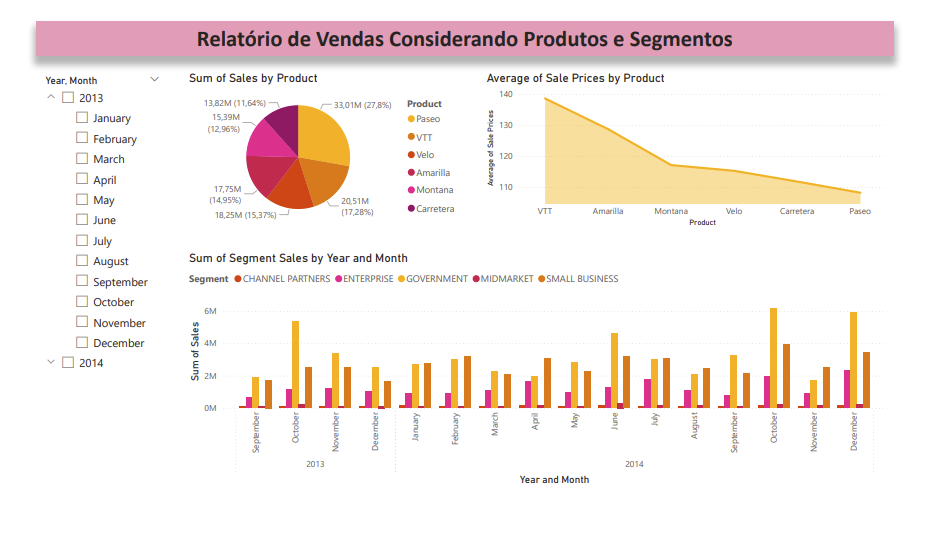

What the dashboard file says about the page in this screenshot:
{"tool":"powerbi","page":{"name":"Page 1","canvas":[1280,720],"ordinal":0},"visuals":[{"type":"pieChart","fields":{"Category":["financials.Product"],"Y":["Sum(financials.Sales)"]},"box":[240.6,77.6,396.8,226],"z":0},{"type":"areaChart","fields":{"Category":["financials.Product"],"Y":["Avg(financials.Sale Price)"]},"box":[663.3,77.6,576.2,226],"z":1000},{"type":"clusteredColumnChart","title":"Sum of Segment Sales by Year and Month","fields":{"Category":["financials.Date.Variation.Date Hierarchy.Year","financials.Date.Variation.Date Hierarchy.Month"],"Y":["Sum(financials.Sales)"],"Series":["financials.Segment"]},"box":[240.6,333.8,998.8,338.1],"z":2000},{"type":"slicer","fields":{"Values":["financials.Date.Variation.Date Hierarchy.Year","financials.Date.Variation.Date Hierarchy.Month"]},"box":[29.3,77.6,186.3,594.3],"z":3000},{"type":"textbox","box":[29.3,7.8,1216.2,49.2],"z":4000}]}

Visuals, with their boxes in screenshot pixels (x1, y1, x2, y2), scaled from the page's 1280x720 canvas onto the 932x539 screenshot:
pieChart - financials.Product x Sum(financials.Sales): box(175, 58, 464, 227)
areaChart - financials.Product x Avg(financials.Sale Price): box(483, 58, 903, 227)
"Sum of Segment Sales by Year and Month" clusteredColumnChart: box(175, 250, 902, 503)
slicer - financials.Date.Variation.Date Hierarchy.Year x financials.Date.Variation.Date Hierarchy.Month: box(21, 58, 157, 503)
textbox: box(21, 6, 907, 43)
